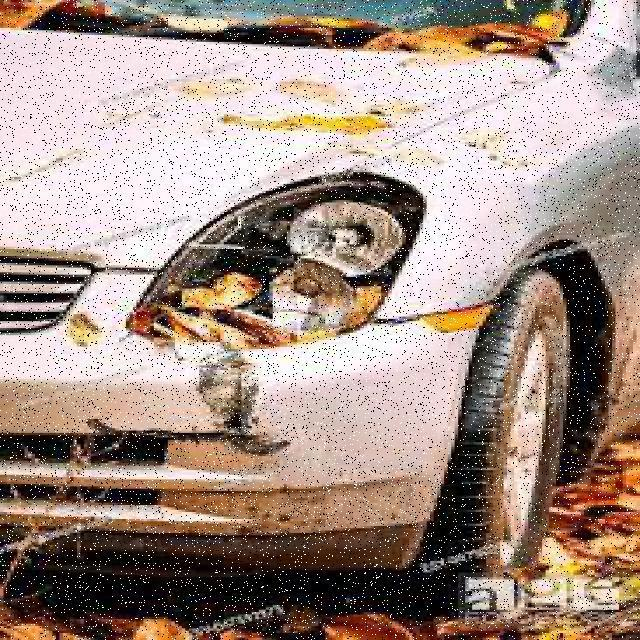front-bumper-dent: (0, 321, 525, 580)
